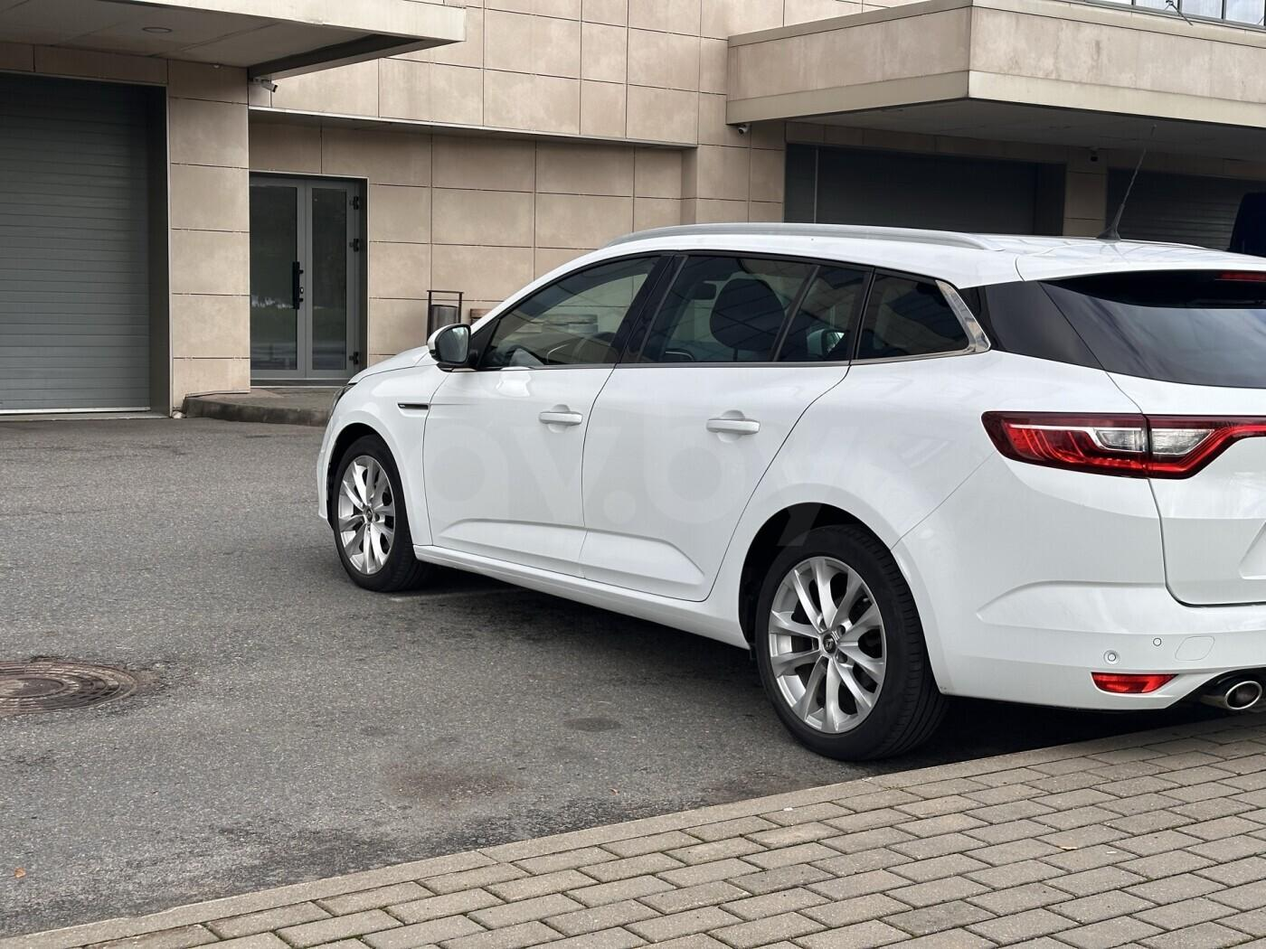Megane_2016-2020: (315, 225, 1266, 743)
